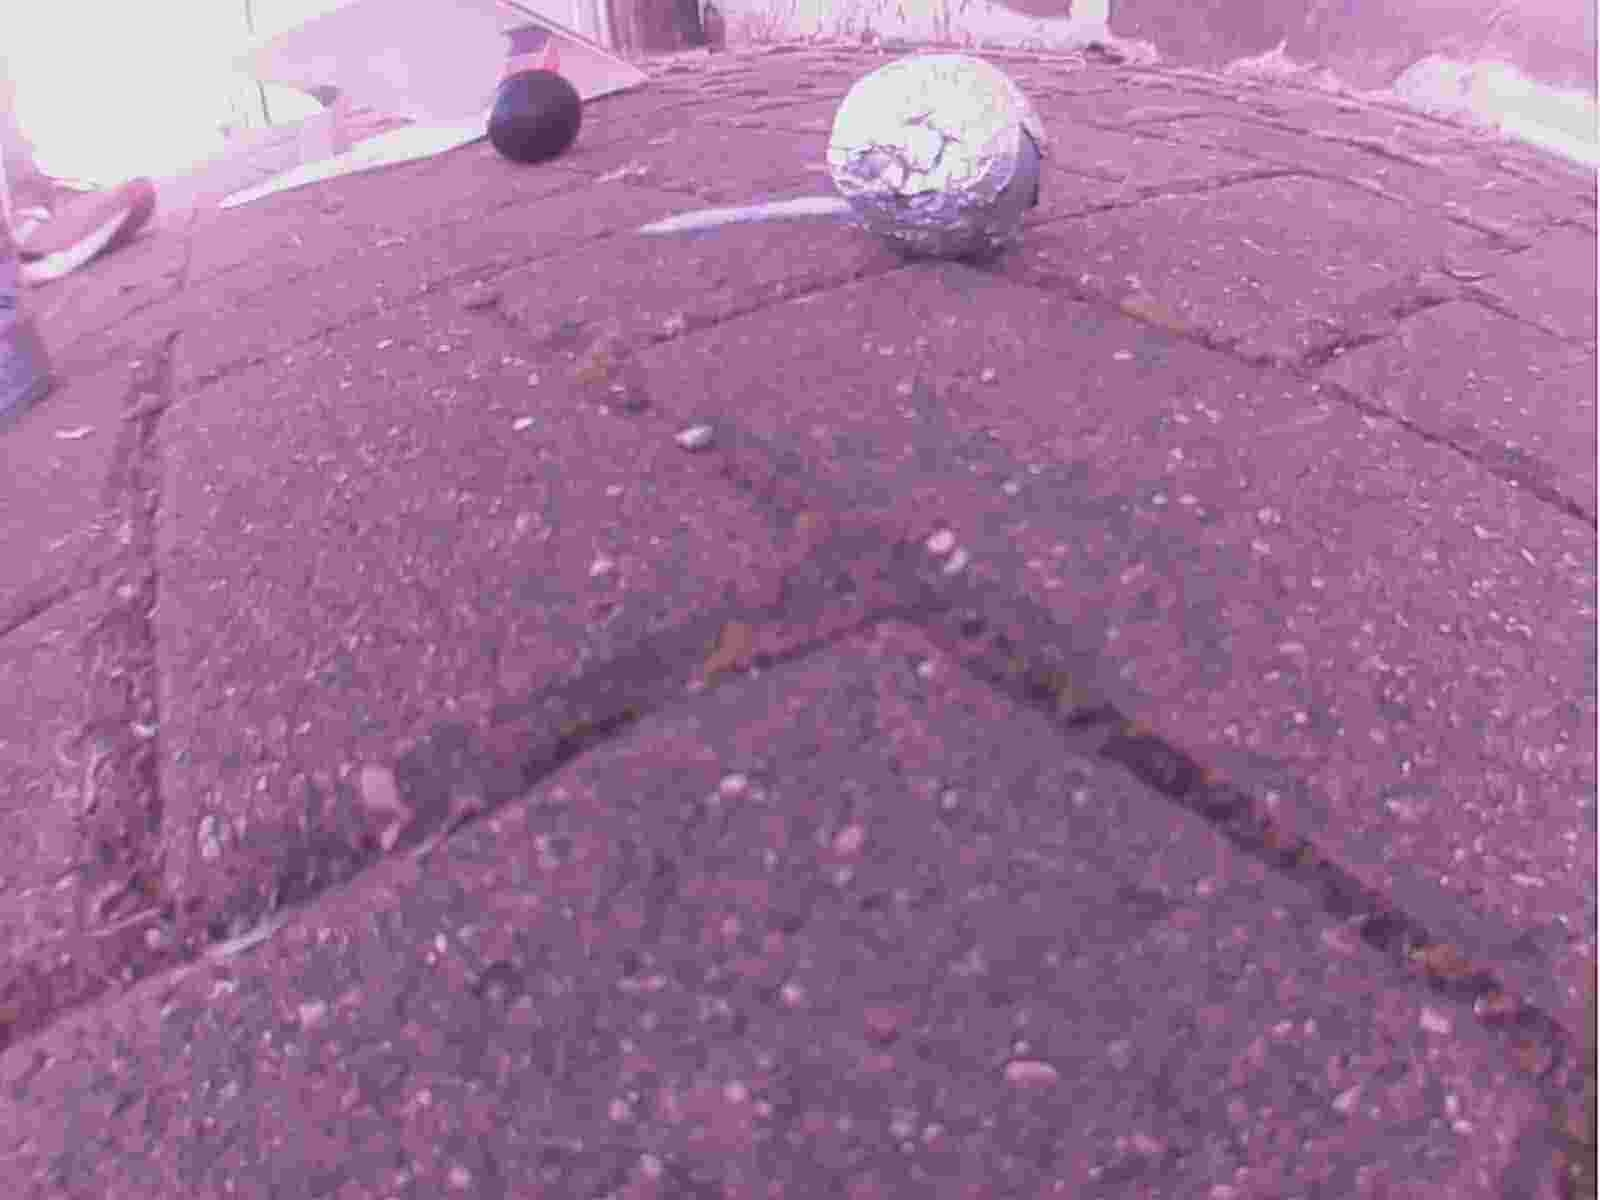bianca: (830, 57, 1047, 260)
nera: (485, 69, 582, 166)
